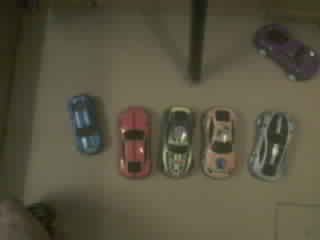Car: (254, 24, 318, 79), (249, 111, 294, 180), (201, 106, 236, 178), (119, 106, 151, 177), (161, 106, 193, 176), (72, 95, 101, 152)
